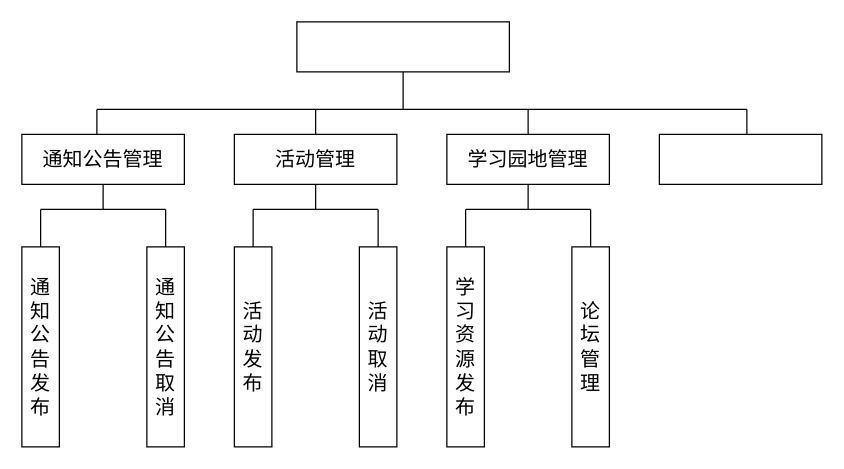
Some shapes in this 844 by 469 pixel diagram are drawn without their labels. Each missing label, with the centre of its shape:
"管理员功能" goes at point 402,46.
"账号管理" goes at point 740,158.
